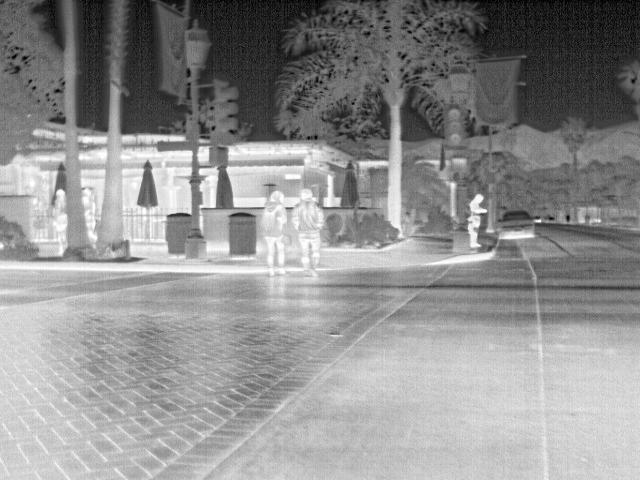car: (497, 210, 536, 242)
person: (293, 188, 324, 278), (261, 188, 291, 280), (465, 194, 488, 249), (51, 188, 67, 244)
